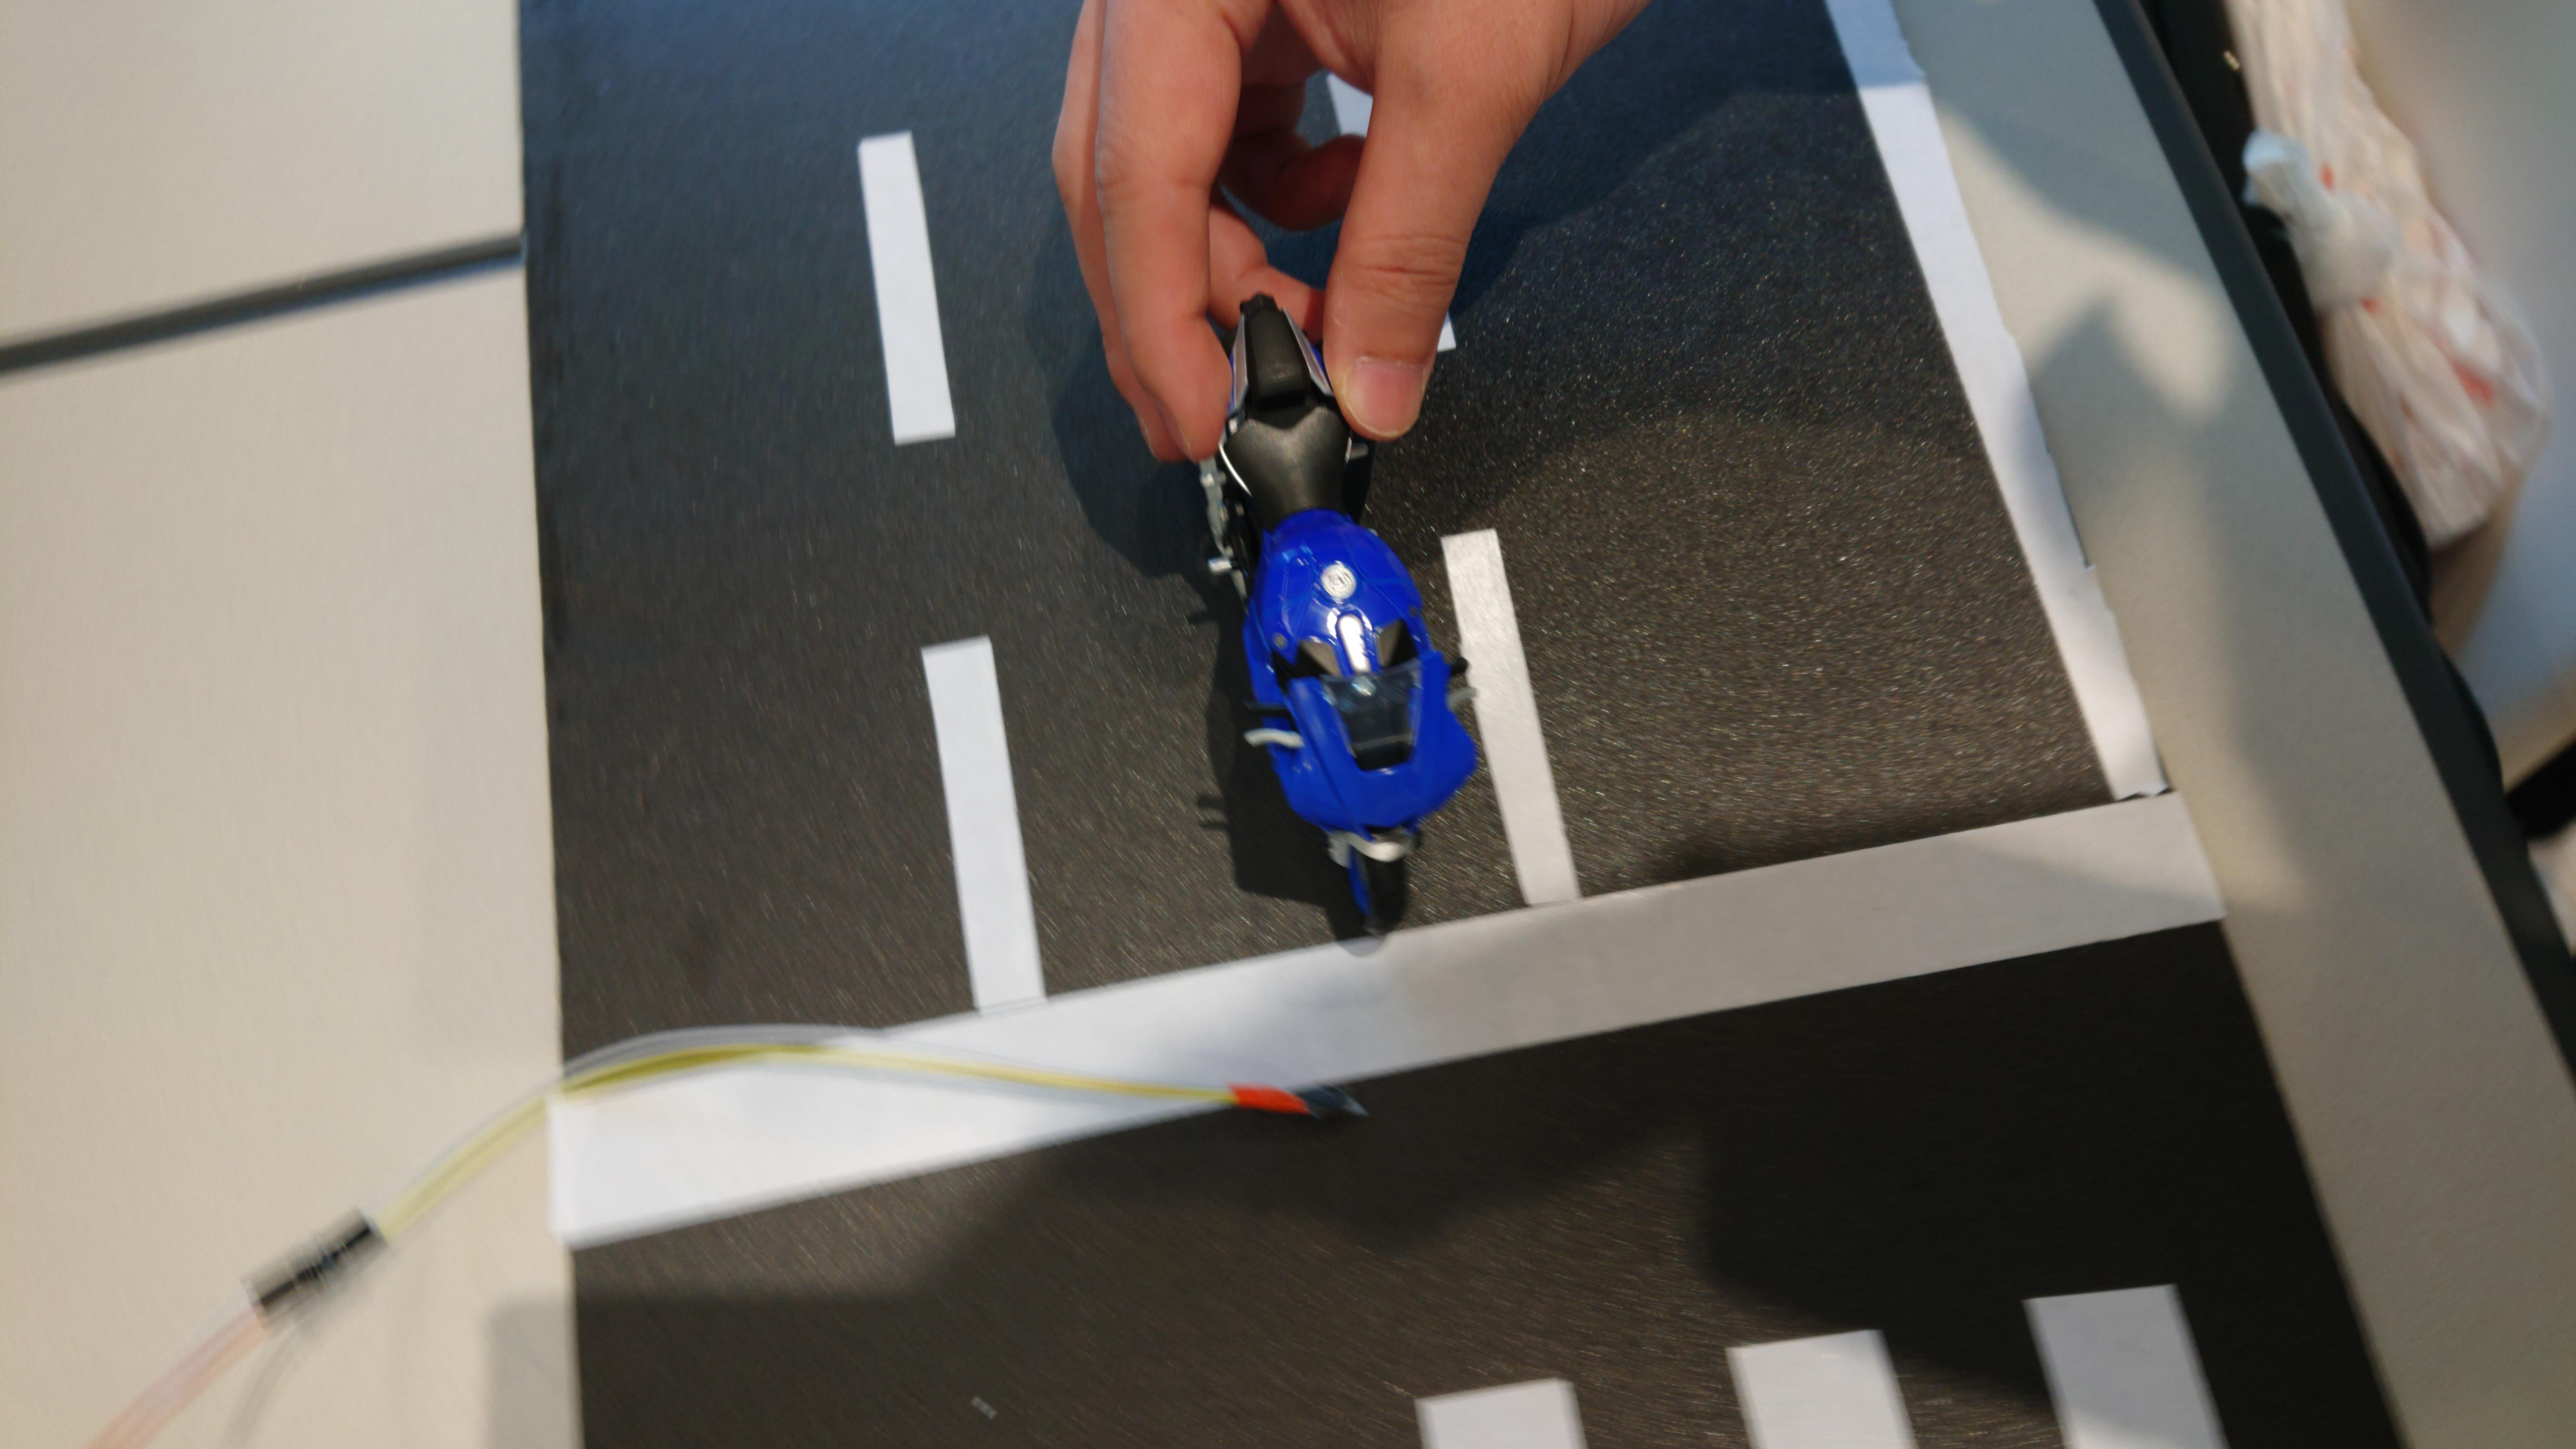Motorcycle: (1122, 262, 1493, 964)
